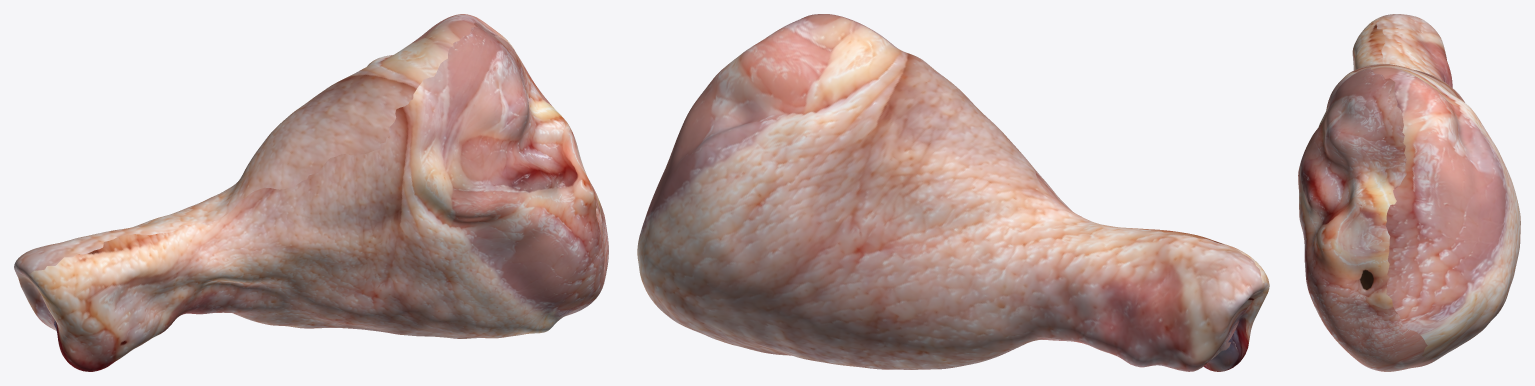
Rendered from drumstick.glb.
The picture shows the model from 3 angles, left to right: view 1: azimuth 30°, elevation 25°; view 2: azimuth 150°, elevation 25°; view 3: azimuth 270°, elevation 25°; orthographic projection. The views are drawn at different scales.
Visible parts, largest first — view 1: Object_2; view 2: Object_2; view 3: Object_2.
Boxes of the visible parts, left/top/right/bottom form: Object_2: left=14, top=14, right=608, bottom=371; Object_2: left=637, top=14, right=1269, bottom=371; Object_2: left=1298, top=14, right=1520, bottom=371.
Size of the model in its own units: 132 by 69.7 by 52.79.
Materials: 1 (1 with a texture image).
